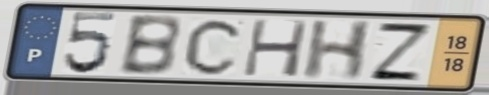5: (61, 10, 119, 77)
B: (116, 13, 184, 78)
C: (180, 16, 248, 78)
H: (299, 19, 377, 82), (239, 17, 312, 79)
Z: (365, 20, 436, 84)
